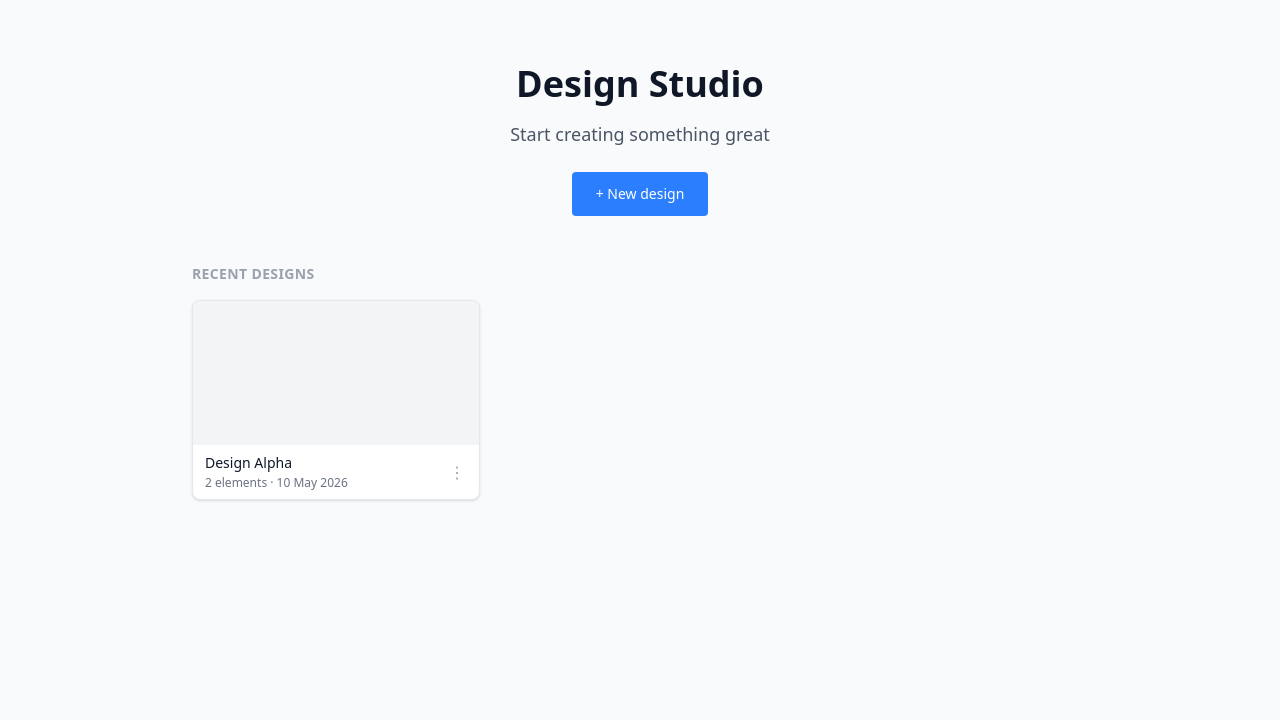
AC5 — Cancel closes dialog without API call › closes the confirmation dialog when Cancel is clicked
The width and height of the screenshot is (1280, 720).
Expected: the text "Design Alpha" is shown, [205,453,292,472]
Click the button named "project options" at point(457, 472), box [447,453,467,491]
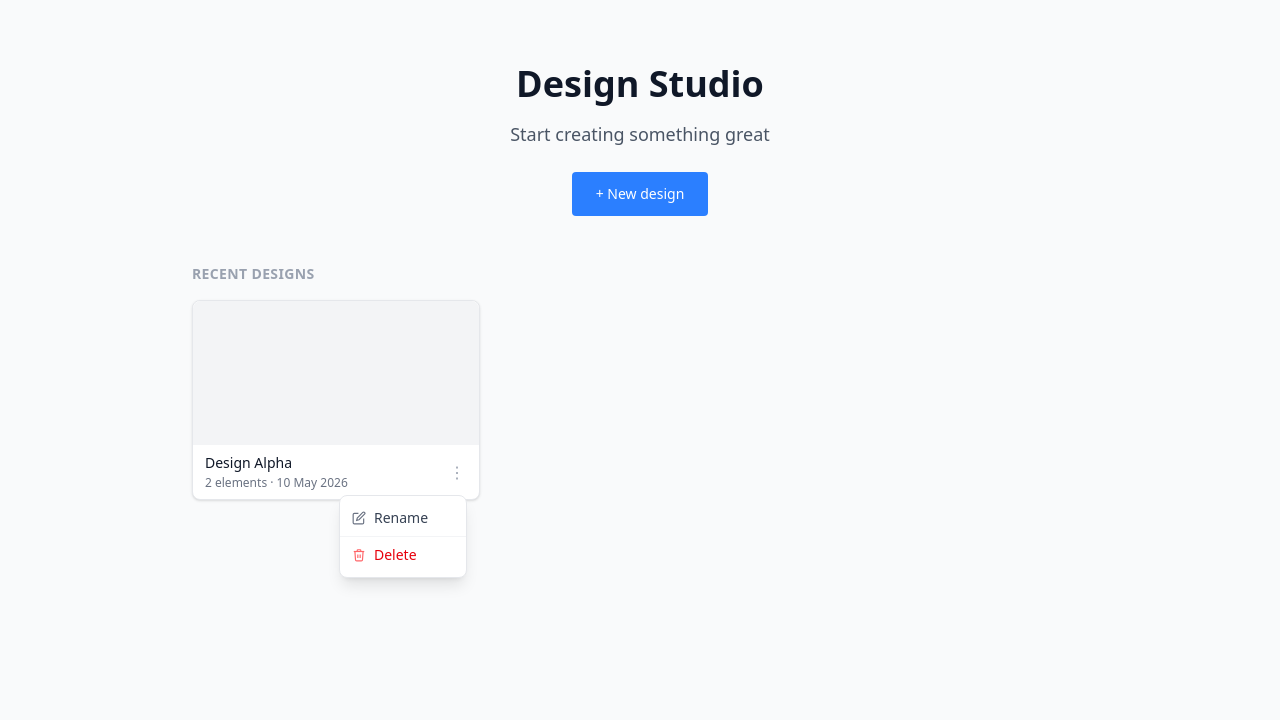
Click the button "Delete" at point(403, 555), box [340,537,466,573]
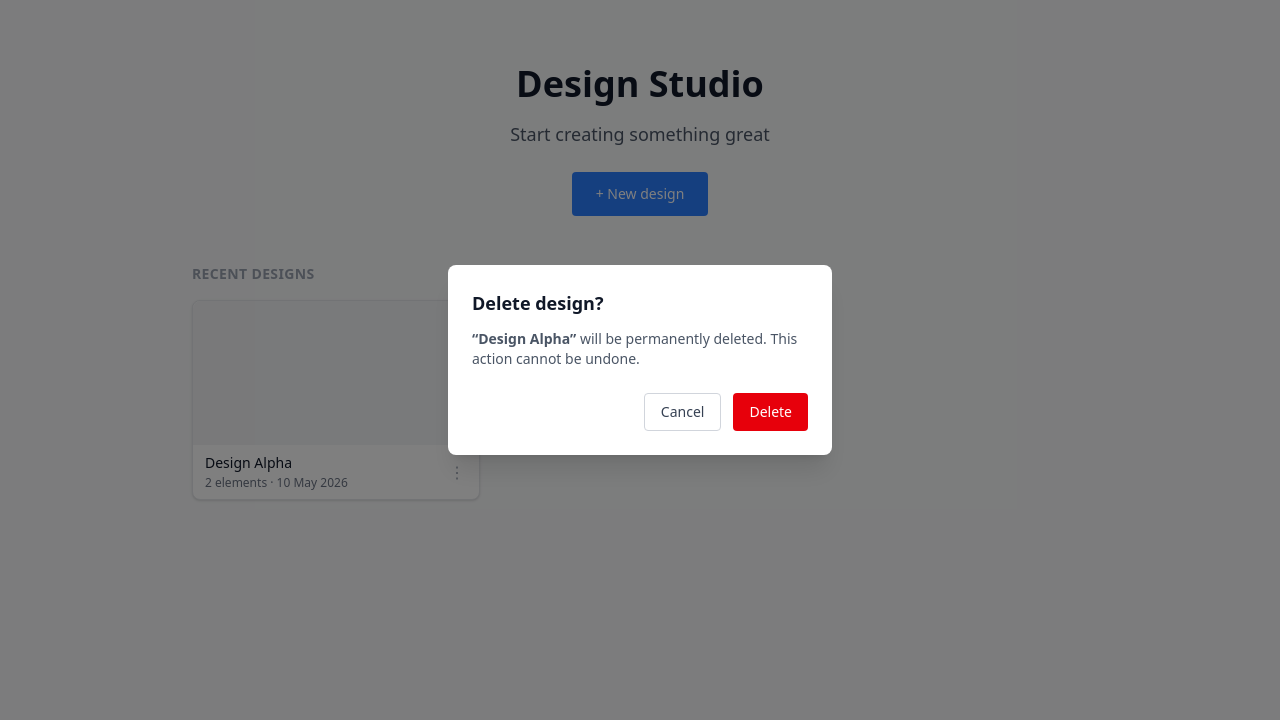
Click the button "Cancel" at point(683, 412), box [644,393,721,431]
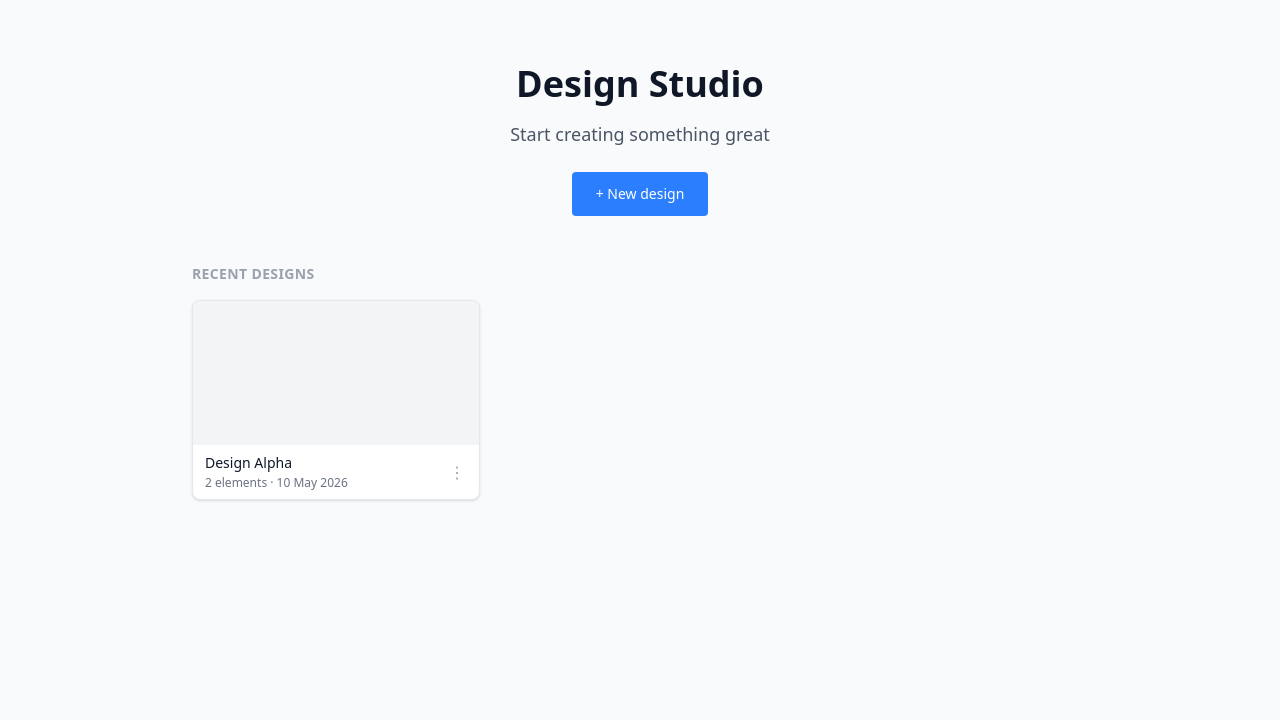
Expected: the heading "Delete design?" is gone
